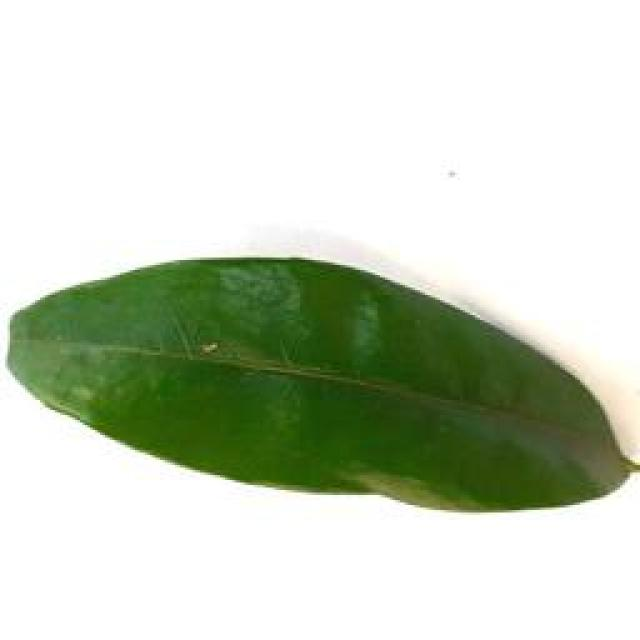Healthy: (8, 250, 638, 512)
